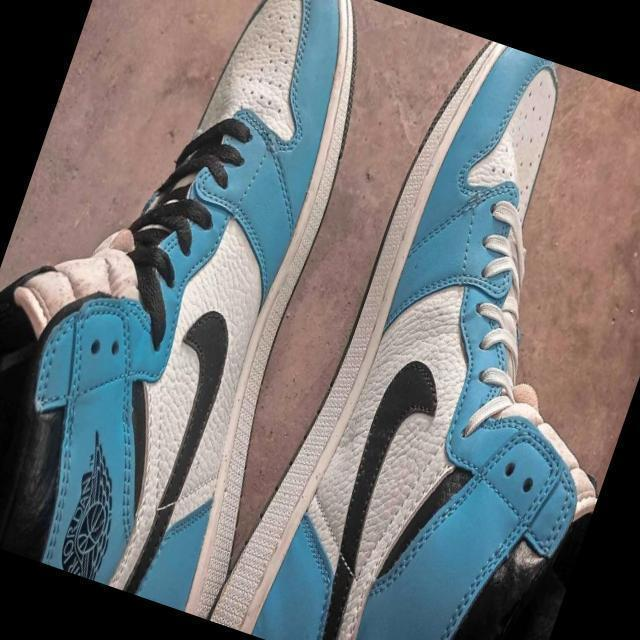nike fake jordan 1: (205, 14, 640, 640), (0, 0, 419, 621)
